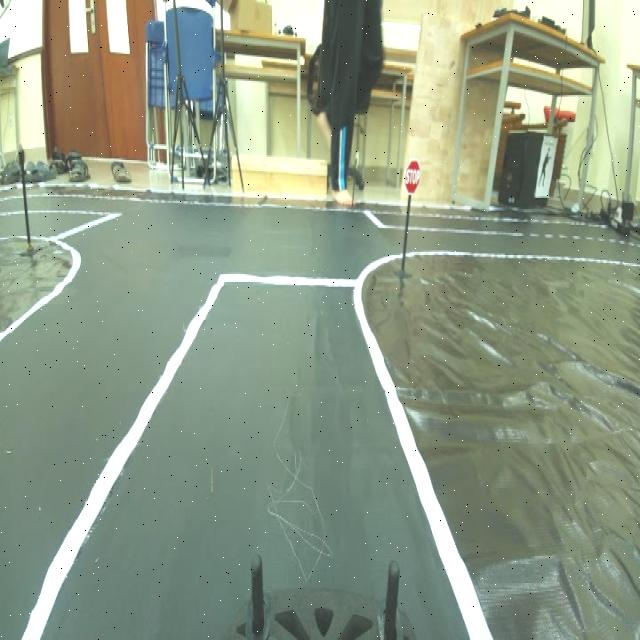stop: (401, 148, 424, 202)
